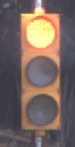Red: (10, 8, 67, 142)
